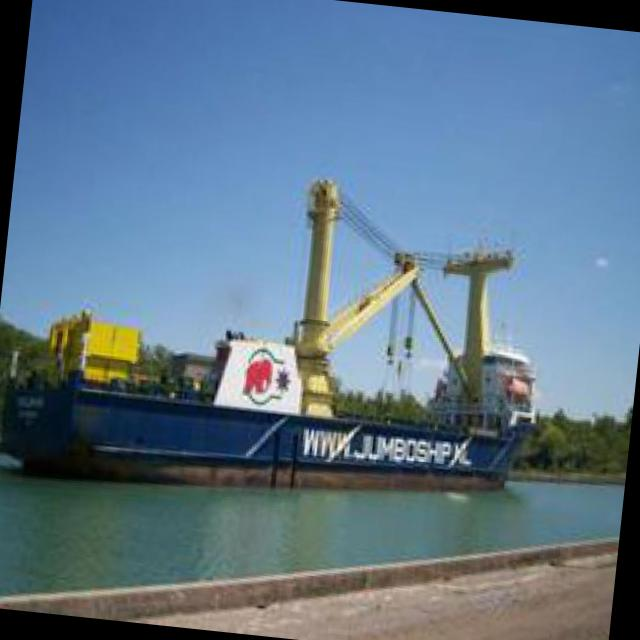boat: (26, 342, 536, 514)
